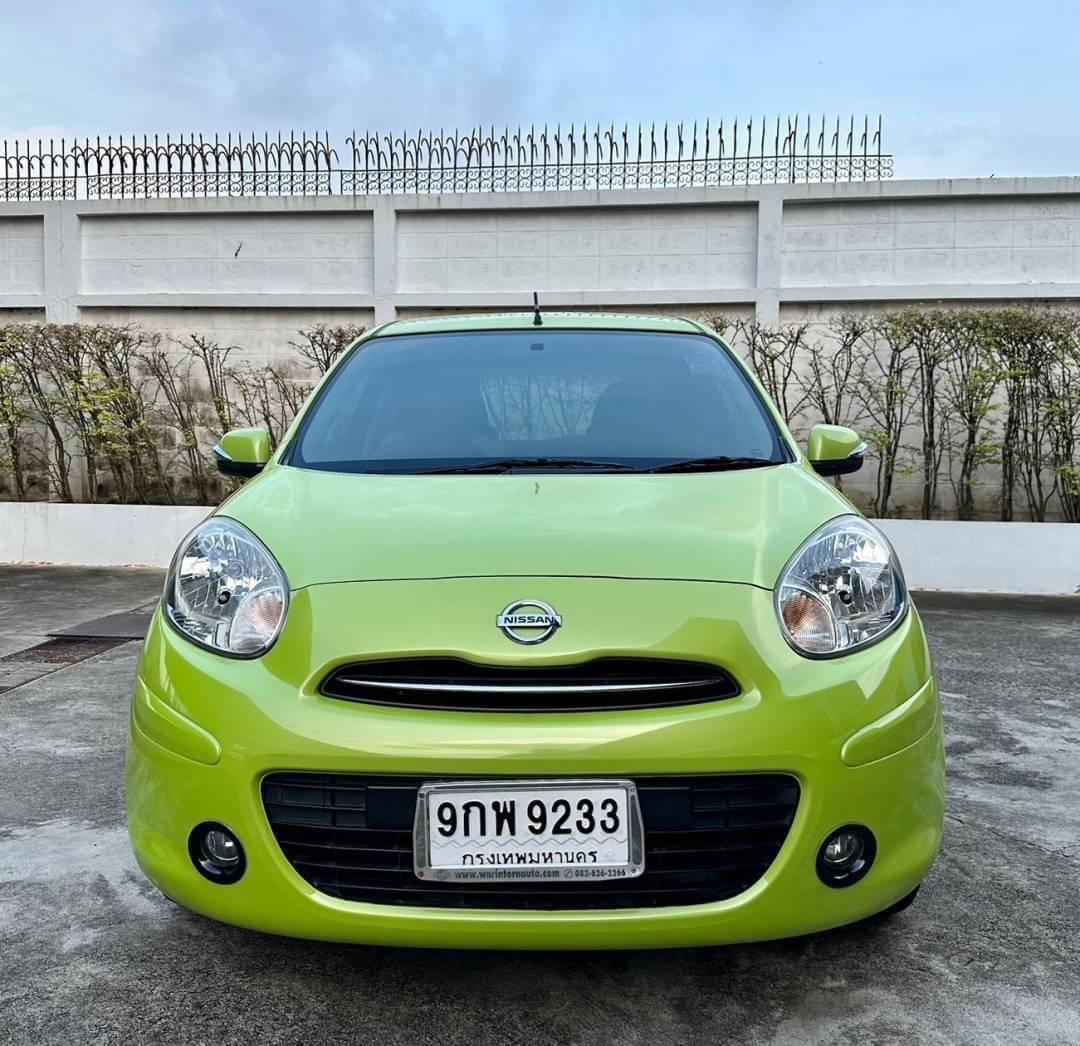license-plate: (413, 779, 643, 881)
